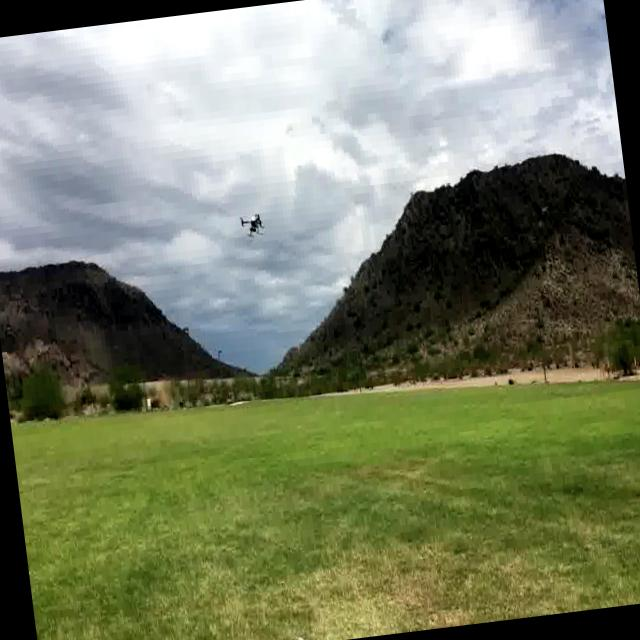drone: (237, 207, 268, 240)
